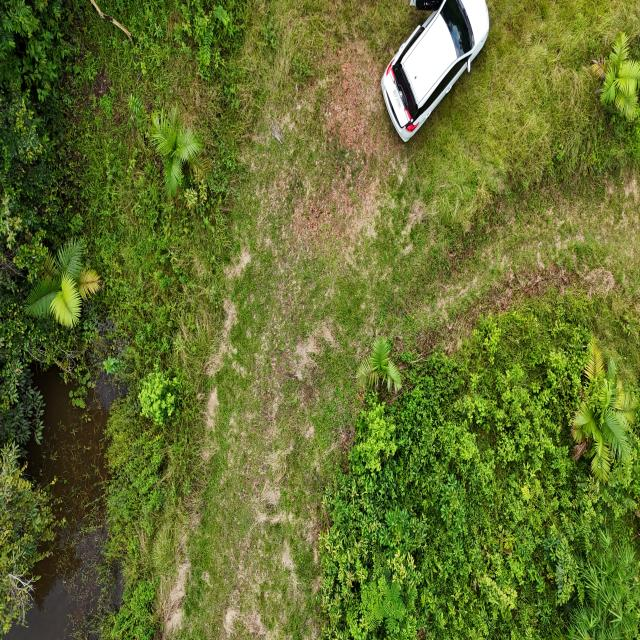vegetation: (316, 299, 639, 638)
